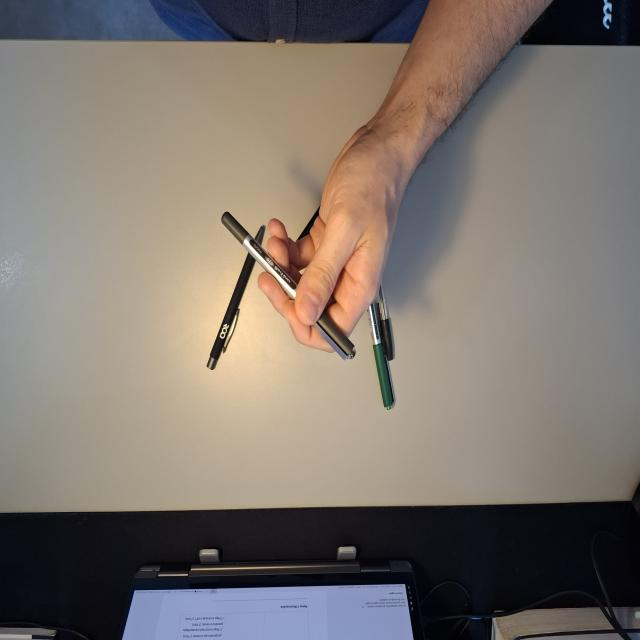glove_off: (256, 124, 407, 356)
